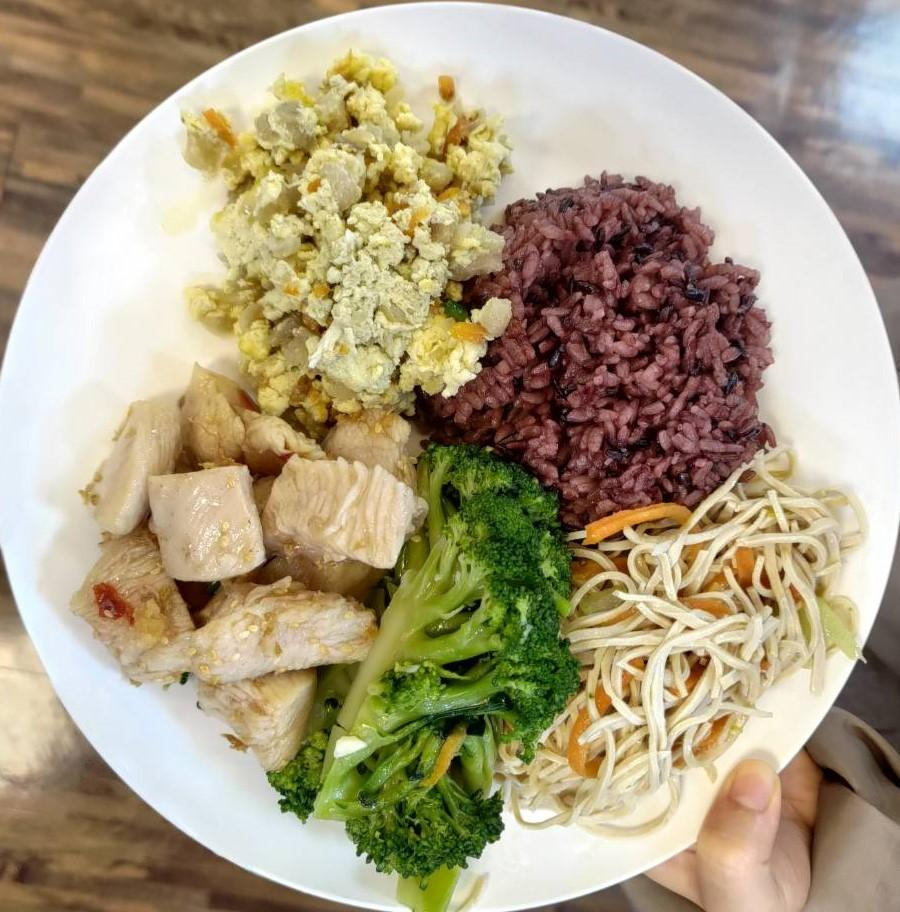big fried chicken leg: (8, 8, 897, 903)
braised fish: (446, 178, 781, 533)
braised fish fillet: (491, 446, 866, 813), (166, 58, 516, 413), (349, 442, 582, 893)
braised pork: (80, 358, 414, 731)
